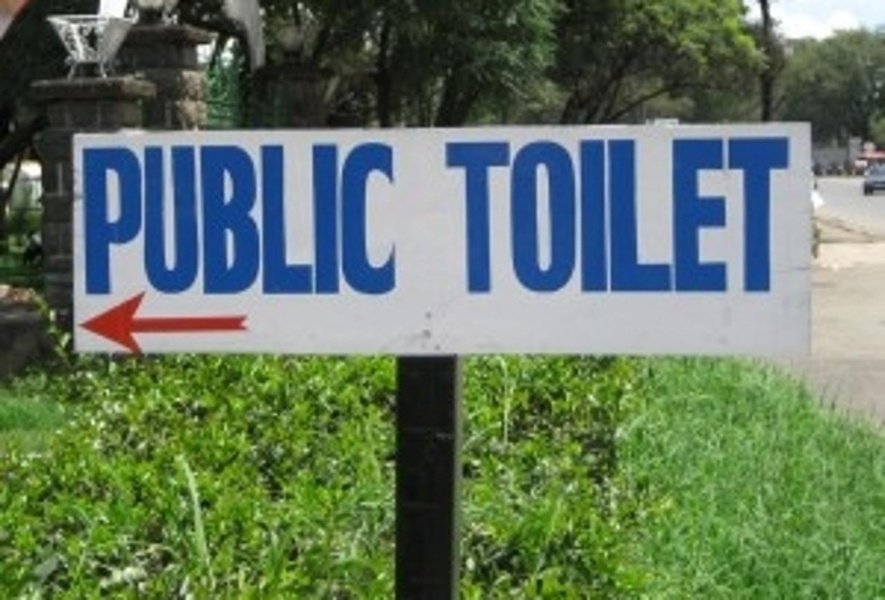text: (449, 134, 464, 298), (465, 134, 480, 298), (481, 134, 496, 298), (497, 134, 512, 298), (513, 134, 528, 298), (529, 134, 544, 298), (545, 134, 560, 298), (561, 134, 576, 298), (577, 134, 592, 298), (593, 134, 608, 298), (609, 134, 624, 298), (625, 134, 640, 298), (641, 134, 656, 298), (657, 134, 672, 298), (673, 134, 688, 298), (689, 134, 704, 298), (705, 134, 720, 298), (721, 134, 736, 298), (737, 134, 752, 298), (753, 134, 768, 298), (769, 134, 784, 298), (81, 139, 96, 298), (97, 139, 112, 298), (113, 139, 128, 298), (129, 139, 144, 298), (145, 139, 160, 298), (161, 139, 176, 298), (177, 139, 192, 298), (193, 139, 208, 298), (209, 139, 224, 298), (225, 139, 240, 298), (241, 139, 256, 298), (257, 139, 272, 298), (273, 139, 288, 298), (289, 139, 304, 298), (305, 139, 320, 298), (321, 139, 336, 298), (337, 139, 352, 298), (353, 139, 368, 298), (369, 139, 384, 298), (385, 139, 399, 298), (785, 134, 793, 298), (442, 134, 448, 298), (75, 139, 80, 298)
